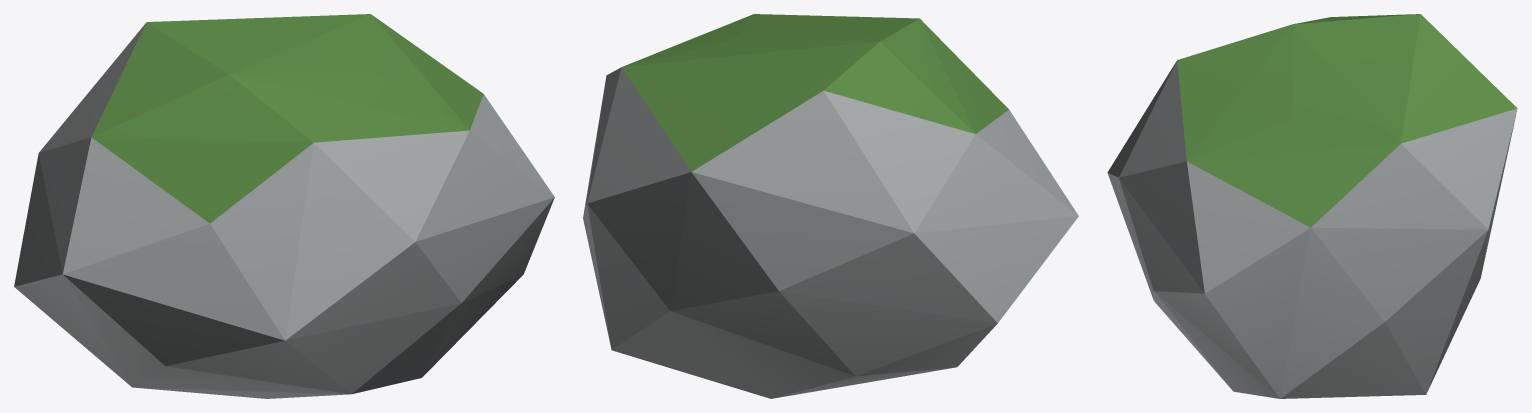
The model's file is rock_0.glb.
3 renders of one model, left to right at view 1: azimuth 30°, elevation 25°; view 2: azimuth 150°, elevation 25°; view 3: azimuth 270°, elevation 25°, orthographic. The views are drawn at different scales.
Visible parts, largest first — view 1: rock_0; view 2: rock_0; view 3: rock_0.
Boxes of the visible parts, <box> form: rock_0: <box>14,14,554,398</box>; rock_0: <box>583,14,1078,398</box>; rock_0: <box>1107,14,1517,398</box>.
Bounding box in the file's own units: 2.25 × 1.52 × 1.84.
